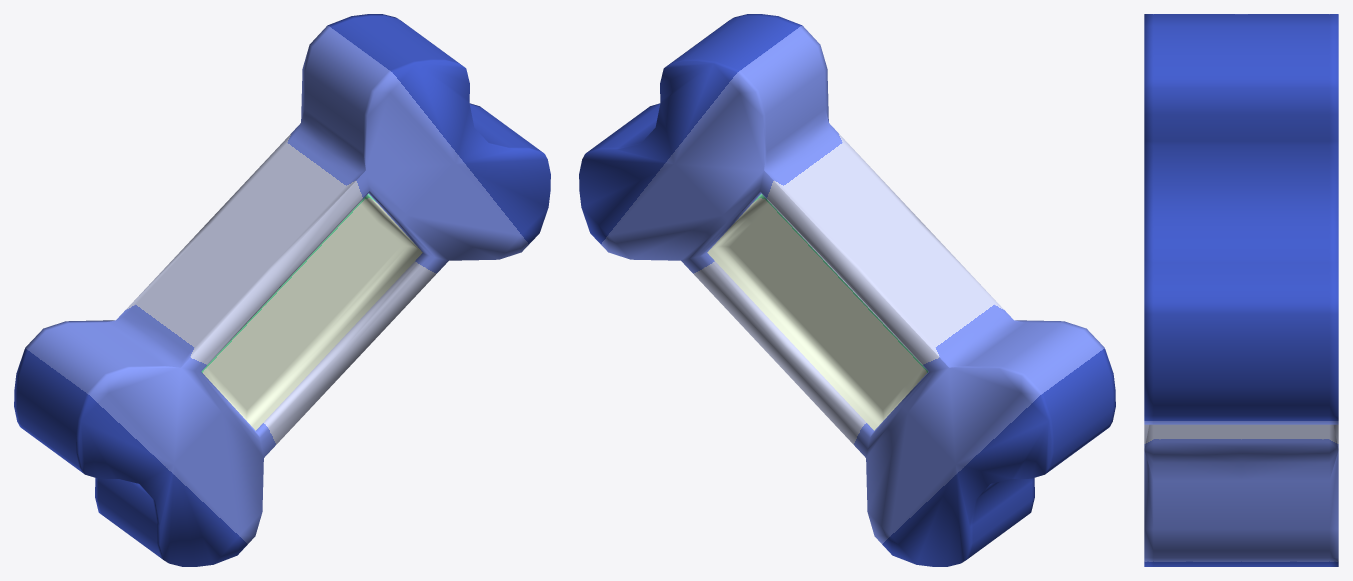
The model's file is Premio_Morita.fbx.
The picture shows the model from 3 angles, left to right: view 1: azimuth 30°, elevation 25°; view 2: azimuth 150°, elevation 25°; view 3: azimuth 270°, elevation 25°; orthographic projection. The views are drawn at different scales.
Parts seen in each view (by area): view 1: Cube.001; view 2: Cube.001; view 3: Cube.001.
Boxes of the visible parts, x1,y1,x2,y2 form: Cube.001: [14, 14, 550, 566]; Cube.001: [579, 14, 1115, 566]; Cube.001: [1144, 14, 1338, 566].
Size of the model in its own units: 190 by 174 by 45.35.
Materials: 1 (1 with a texture image).
